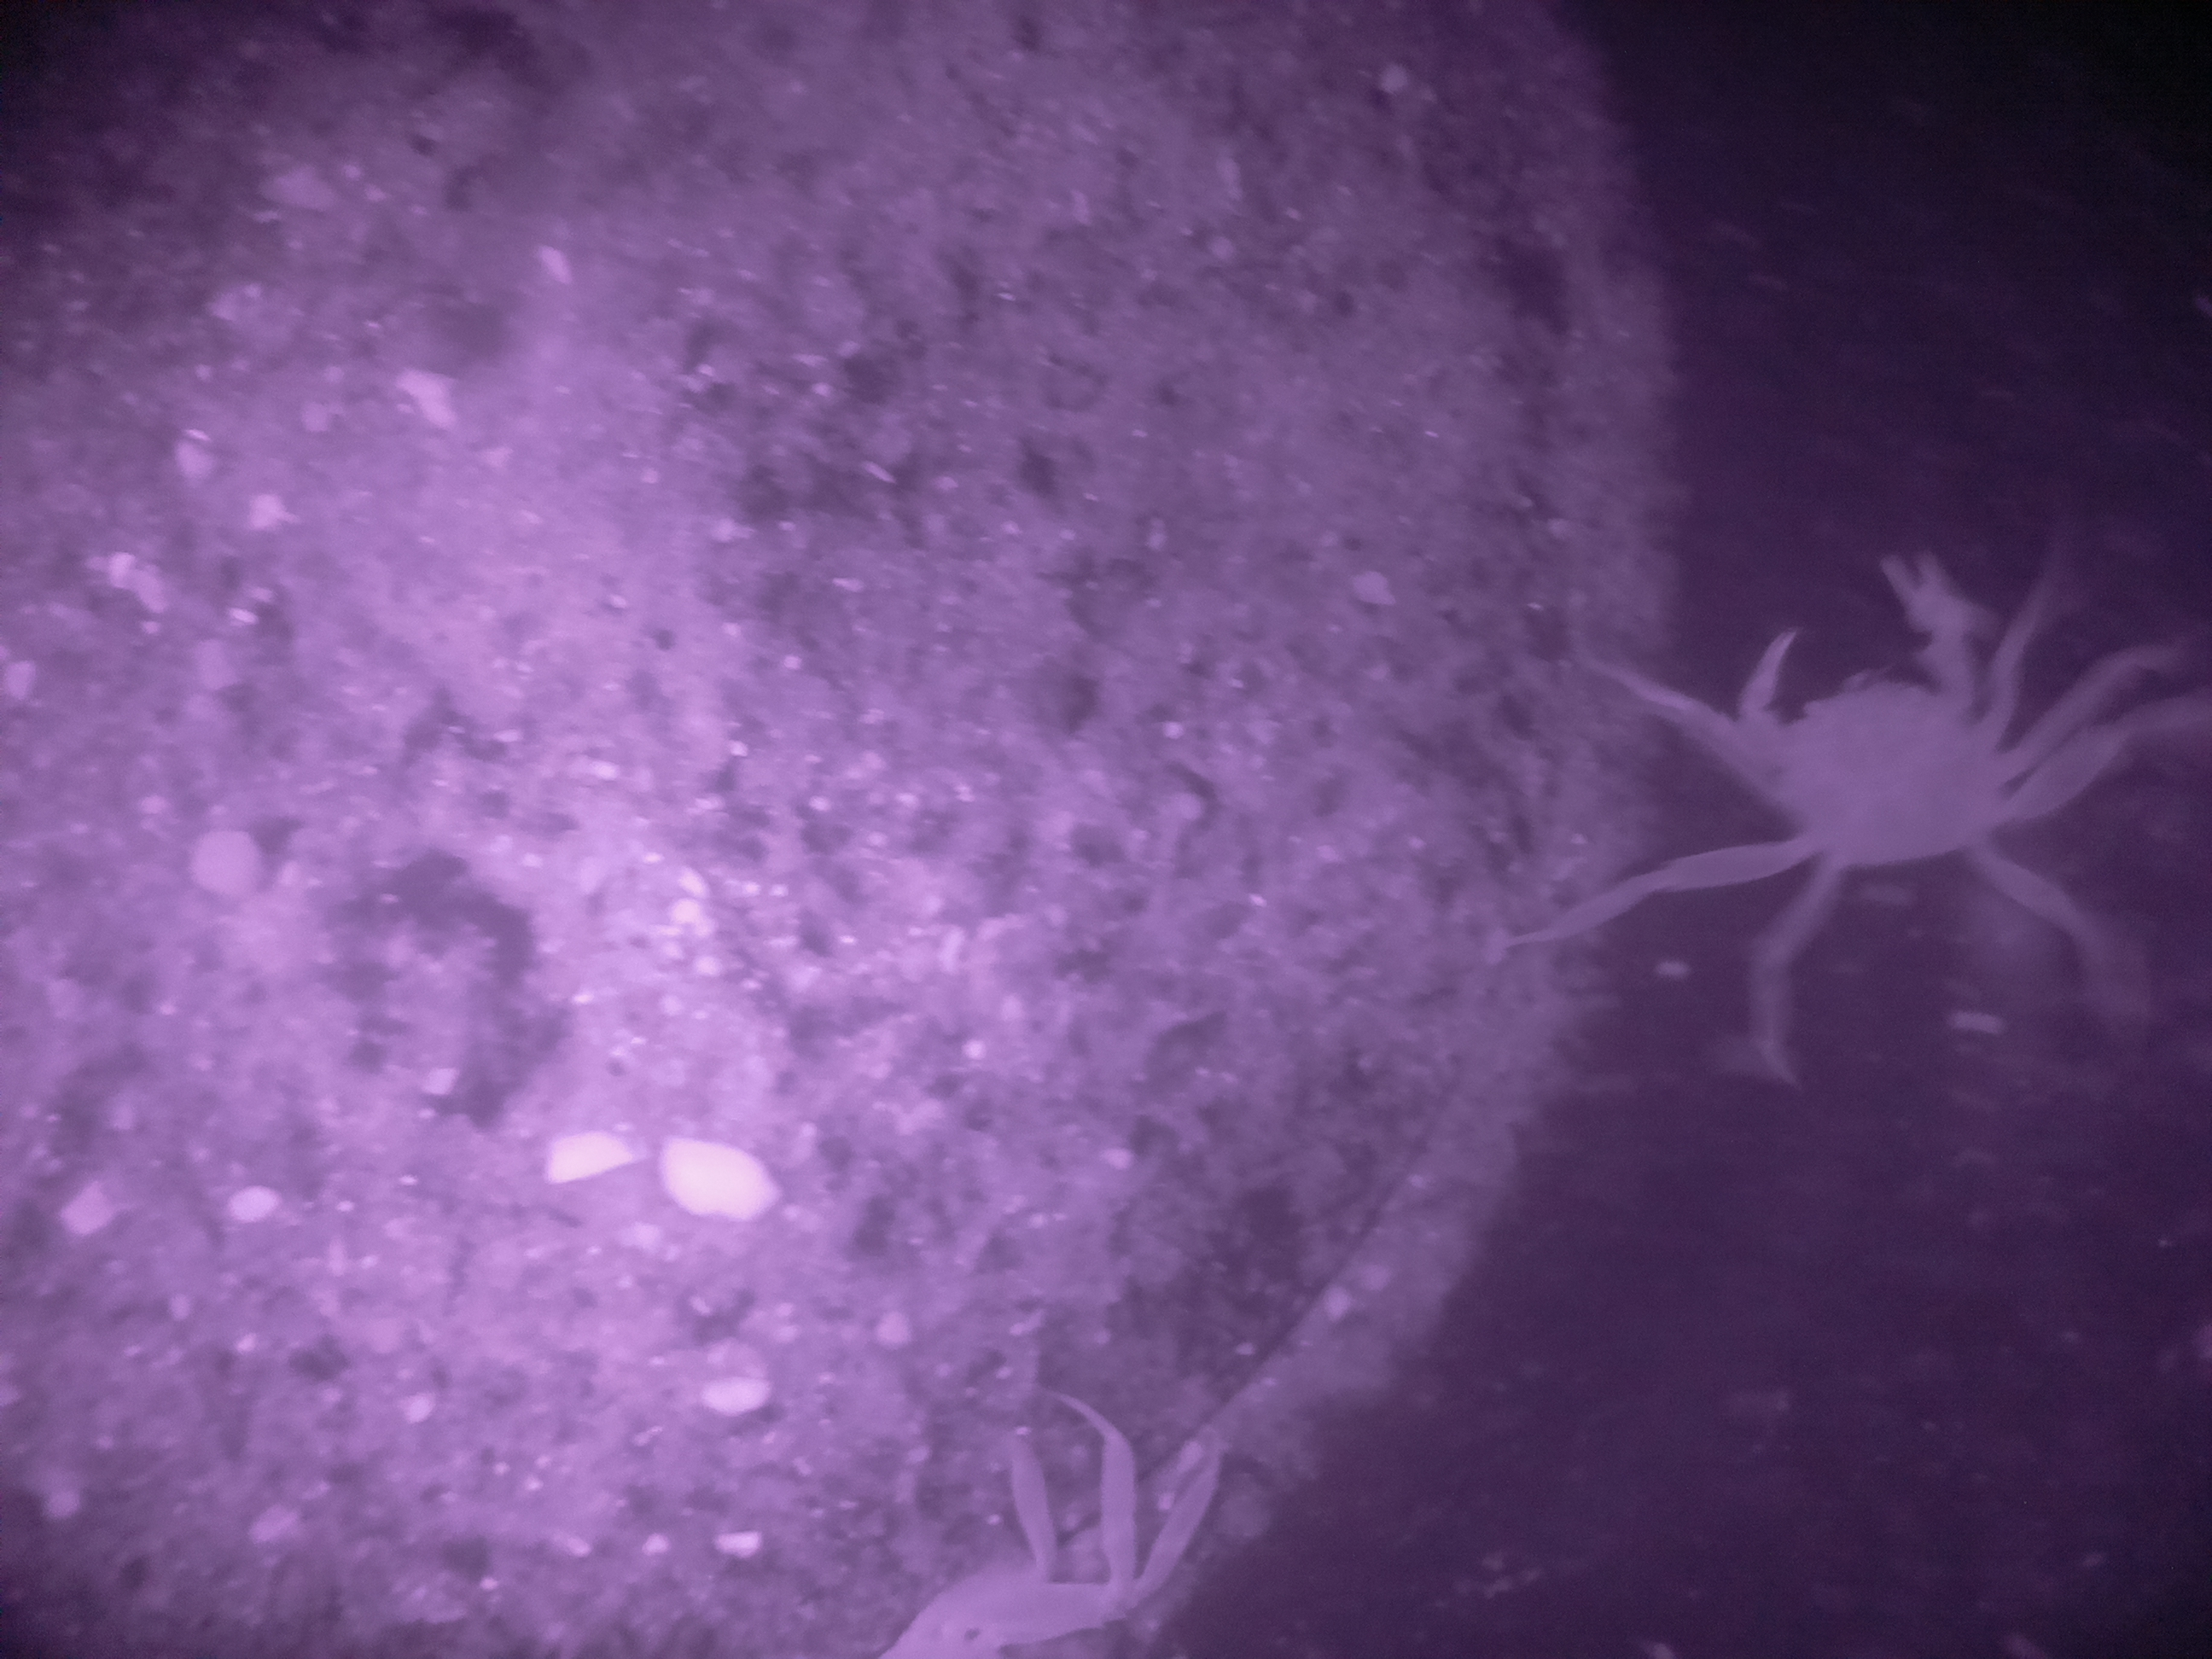Crab: (1667, 519, 2081, 986)
